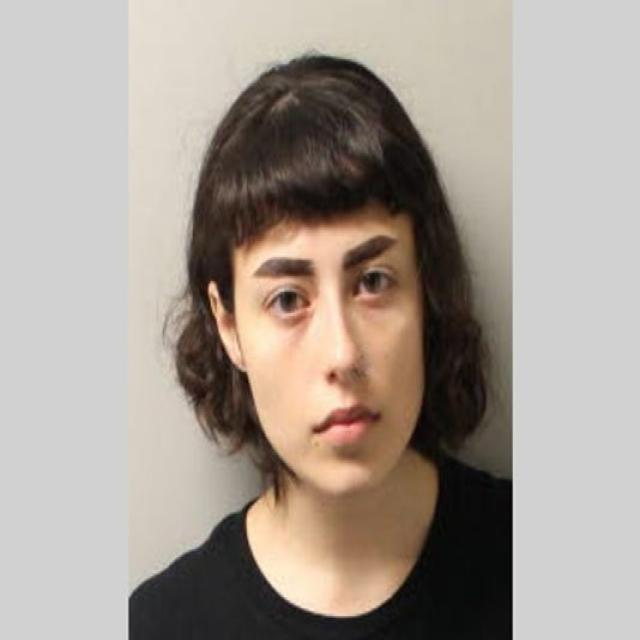mobile_phonerotation: (123, 49, 513, 638)
